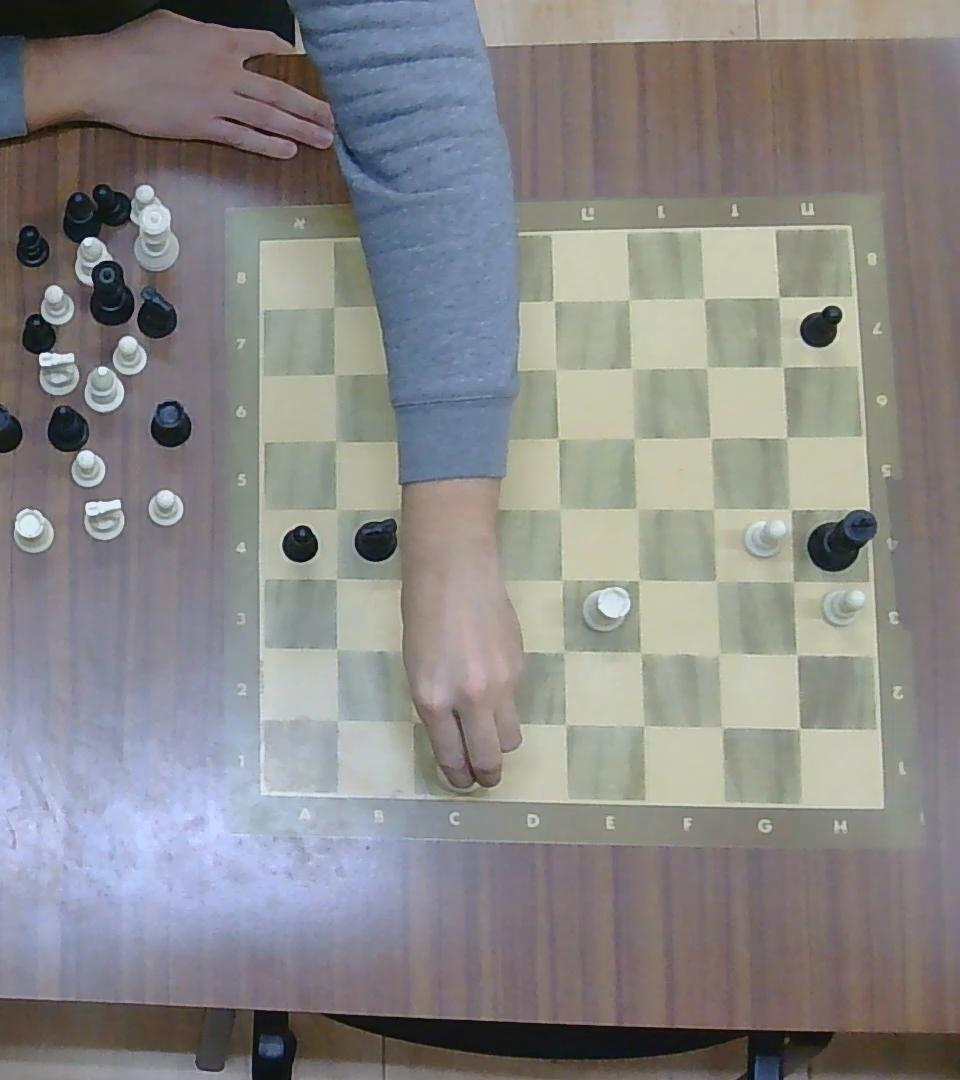xcorner: (467, 421, 502, 455), (703, 708, 737, 742), (701, 636, 734, 669), (457, 283, 489, 317), (626, 707, 658, 740), (621, 562, 654, 594), (624, 635, 656, 667), (469, 493, 501, 525), (395, 706, 428, 737), (381, 357, 414, 388), (783, 711, 814, 743), (781, 638, 812, 670), (386, 425, 419, 455), (472, 706, 503, 737), (548, 635, 578, 667), (549, 706, 579, 738), (463, 355, 493, 387), (321, 703, 351, 734), (698, 492, 728, 523), (548, 563, 578, 594), (616, 352, 646, 383), (472, 566, 502, 597), (700, 565, 730, 595), (777, 565, 807, 595), (393, 494, 423, 524), (615, 283, 644, 313), (321, 634, 350, 664), (621, 493, 651, 522), (321, 563, 350, 593), (776, 493, 806, 522), (475, 636, 504, 666), (619, 422, 648, 451), (541, 353, 570, 382), (543, 422, 572, 451), (767, 351, 796, 380), (539, 285, 567, 315), (545, 493, 573, 522), (697, 422, 725, 451), (691, 284, 719, 312), (693, 352, 721, 380), (387, 286, 412, 317), (772, 423, 800, 450), (391, 637, 419, 664), (324, 495, 350, 523), (766, 283, 792, 310), (321, 291, 347, 318), (395, 566, 420, 594), (323, 427, 348, 453), (322, 360, 348, 385)
